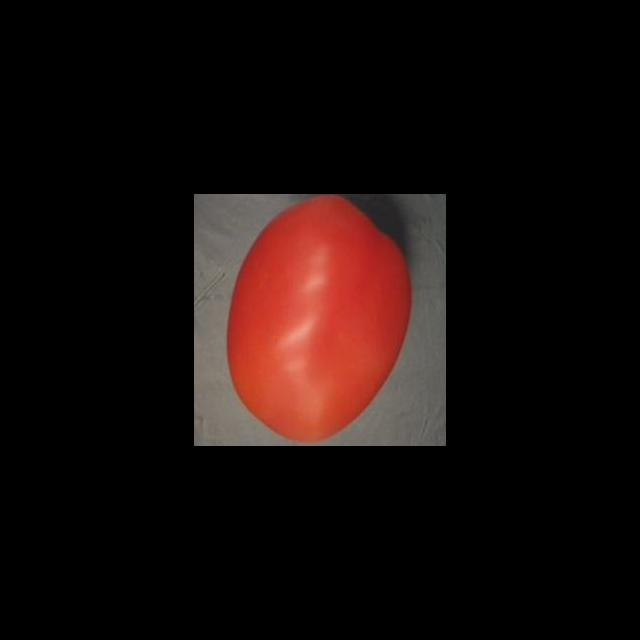tomato: (224, 194, 415, 442)
